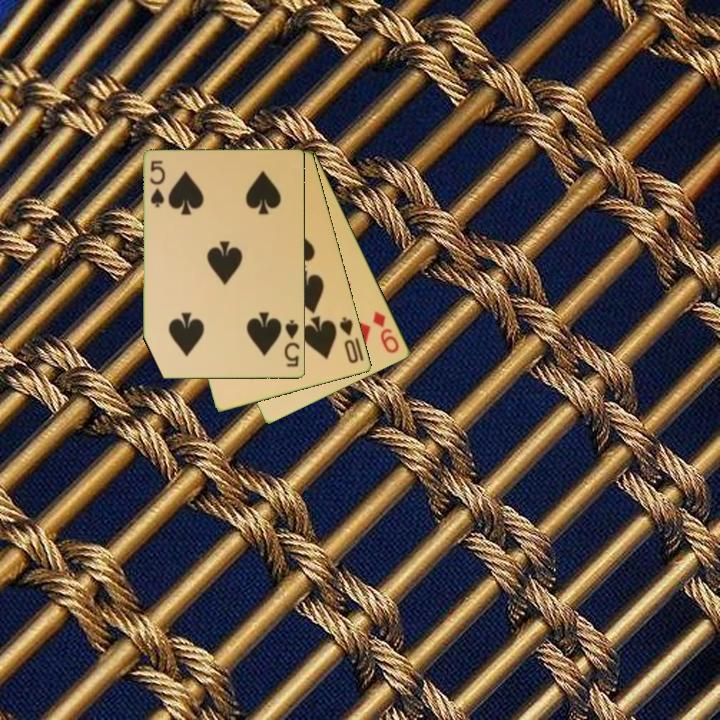10s: (336, 313, 362, 367)
5s: (281, 316, 303, 370), (147, 157, 168, 211)
9d: (369, 308, 402, 356)
